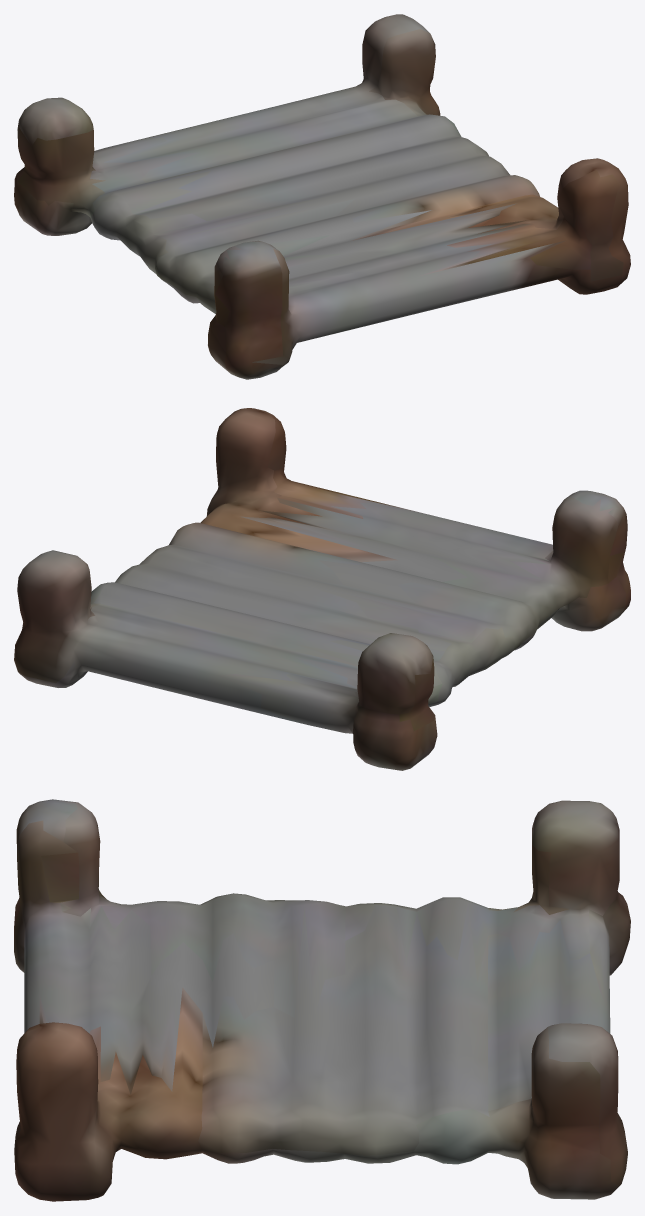
Rendered from s09_deque_madeira.glb.
3 views of the same model, one above another, from view 1: azimuth 30°, elevation 25°; view 2: azimuth 150°, elevation 25°; view 3: azimuth 270°, elevation 25° (orthographic). The views are drawn at different scales.
Parts seen in each view (by area): view 1: s09_deque_madeira; view 2: s09_deque_madeira; view 3: s09_deque_madeira.
Boxes of the visible parts, box(x1,y1,x2,y2) form: s09_deque_madeira: box(14, 14, 630, 379); s09_deque_madeira: box(14, 408, 630, 770); s09_deque_madeira: box(14, 799, 630, 1201).
Size of the model in its own units: 0.8677 by 0.2632 by 0.8692.
1 material, 1 textured.
